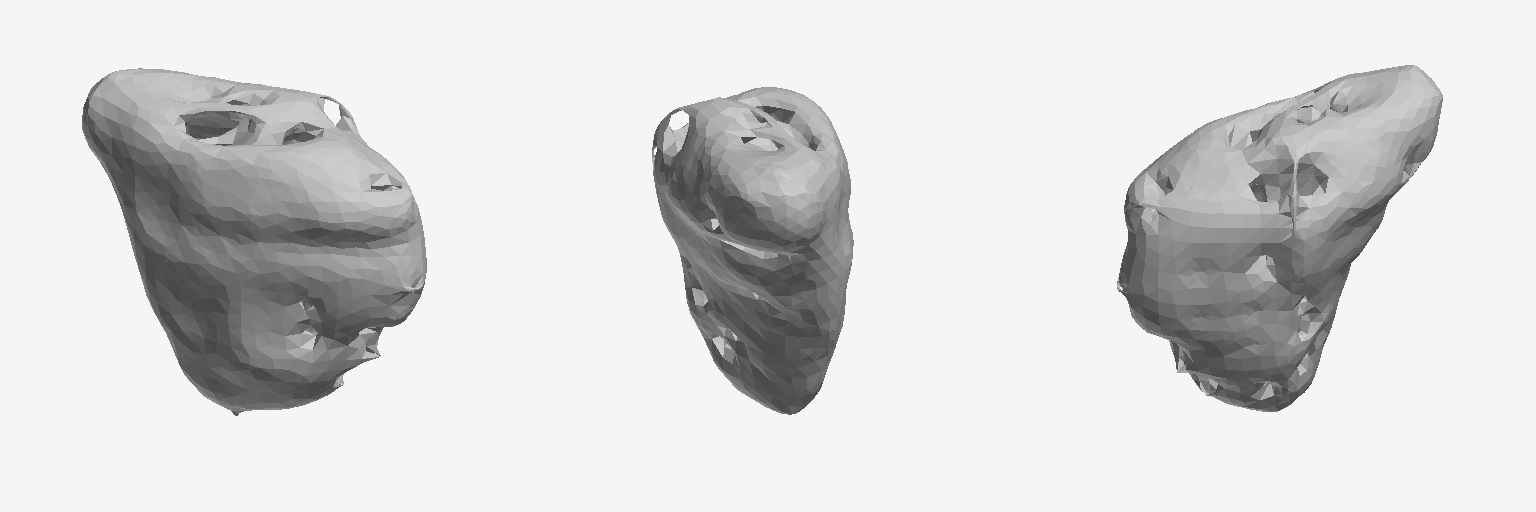
File: lesion3_para.obj
3 views of the same model, side by side, from view 1: azimuth 30°, elevation 25°; view 2: azimuth 150°, elevation 25°; view 3: azimuth 270°, elevation 25° (orthographic).
Size of the model in its own units: 12.54 by 16.86 by 16.22.